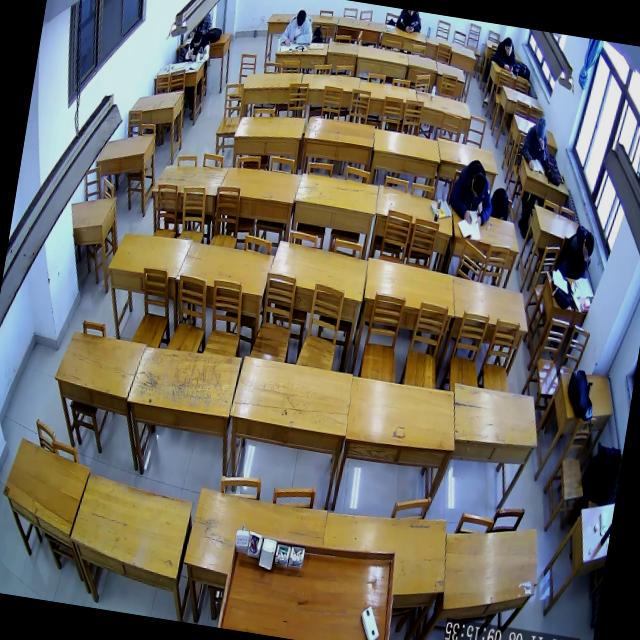bow: (492, 34, 520, 73)
down: (580, 230, 598, 266), (468, 170, 488, 202), (534, 117, 548, 144), (294, 8, 308, 32), (191, 28, 203, 50)
lookup: (503, 36, 515, 58)
sit: (445, 156, 499, 228), (555, 222, 598, 282), (278, 5, 318, 52), (520, 114, 552, 172), (184, 27, 214, 65)
